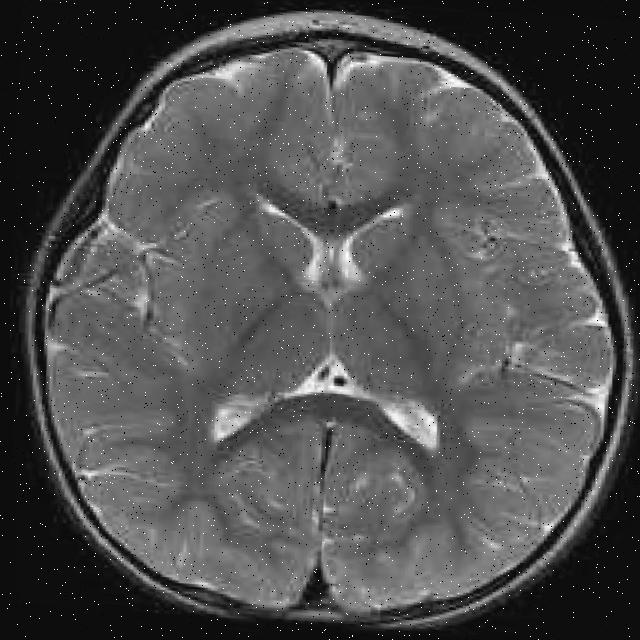NoTumor: (4, 21, 640, 636)
